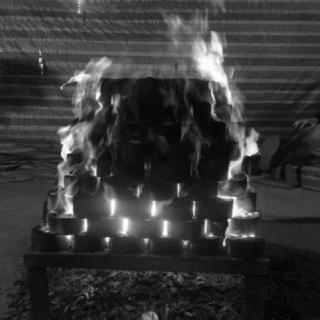Fire: (37, 1, 263, 283)
